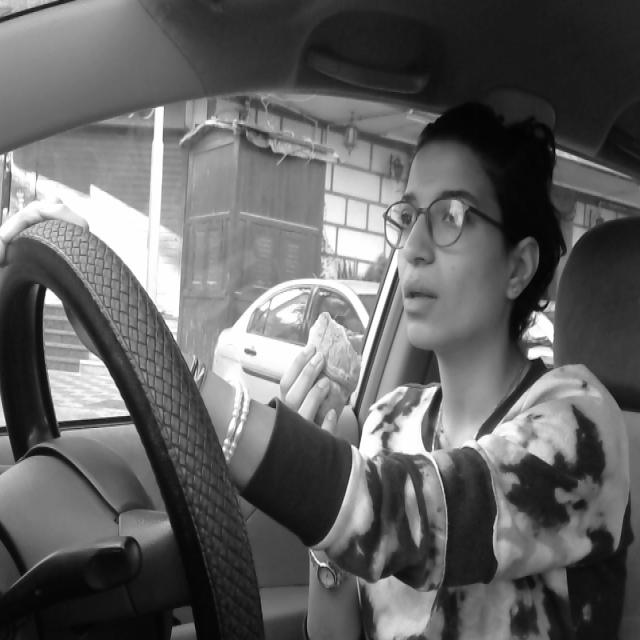eating: (284, 296, 364, 432)
